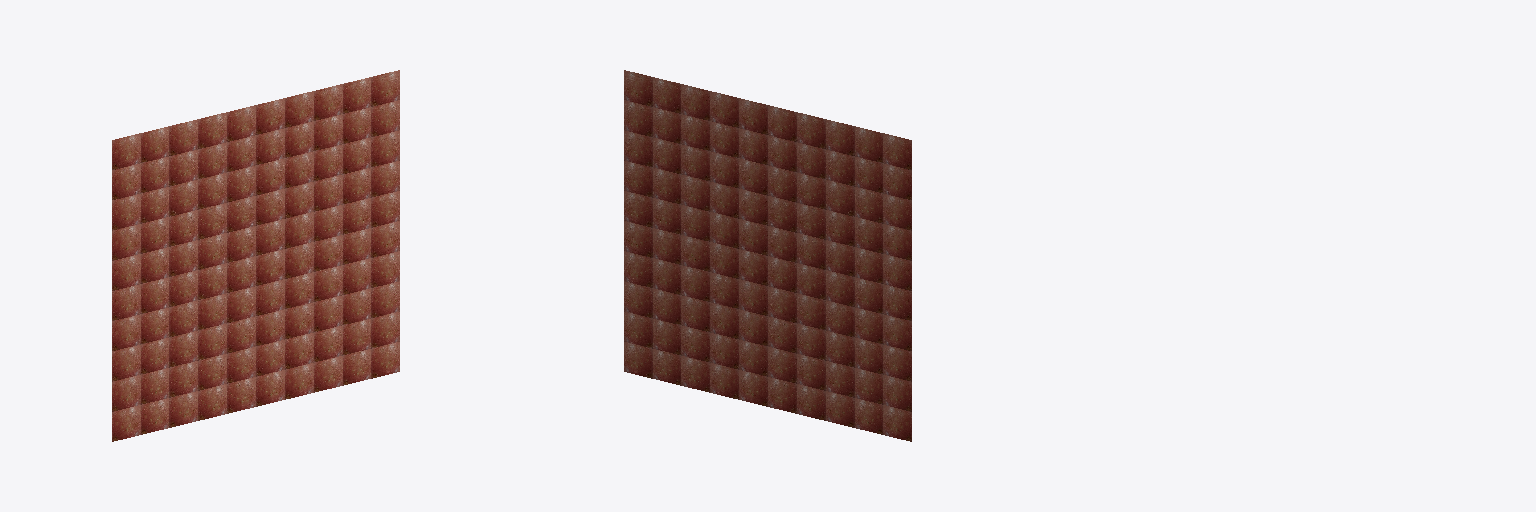
3 renders of one model, left to right at view 1: azimuth 30°, elevation 25°; view 2: azimuth 150°, elevation 25°; view 3: azimuth 270°, elevation 25°, orthographic.
Visible parts, largest first — view 1: Ground9, Ground11, Ground, Ground2, Ground5, Ground6, Ground8, Ground10, Ground12, Ground14, Ground15, Ground16 (+4 smaller); view 2: Ground9, Ground11, Ground, Ground2, Ground5, Ground6, Ground8, Ground10, Ground12, Ground14, Ground15, Ground16 (+4 smaller); view 3: none.
Boxes of the visible parts, <box> form: Ground9: <box>328,221,399,313</box>; Ground11: <box>112,198,183,290</box>; Ground: <box>112,123,183,215</box>; Ground2: <box>112,274,183,365</box>; Ground5: <box>112,349,183,441</box>; Ground6: <box>184,256,255,348</box>; Ground8: <box>256,314,327,406</box>; Ground10: <box>328,296,399,388</box>; Ground12: <box>184,105,255,197</box>; Ground14: <box>256,163,327,255</box>; Ground15: <box>328,70,399,162</box>; Ground16: <box>328,146,399,237</box>; Ground9: <box>624,221,695,313</box>; Ground11: <box>840,198,911,290</box>; Ground: <box>840,123,911,215</box>; Ground2: <box>840,274,911,365</box>; Ground5: <box>840,349,911,441</box>; Ground6: <box>768,256,839,348</box>; Ground8: <box>696,314,767,406</box>; Ground10: <box>624,296,695,388</box>; Ground12: <box>768,105,839,197</box>; Ground14: <box>696,163,767,255</box>; Ground15: <box>624,70,695,162</box>; Ground16: <box>624,146,695,237</box>.
Size of the model in its own units: 1000 by 1000 by 0.
Materials: 1 (1 with a texture image).